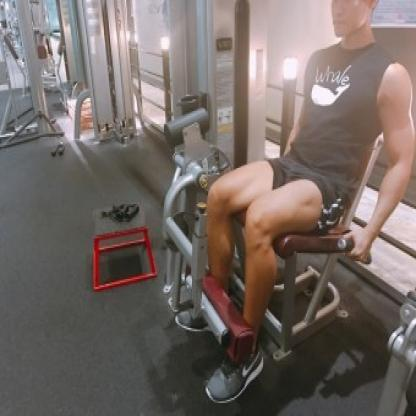leg extension: (155, 0, 416, 416)
